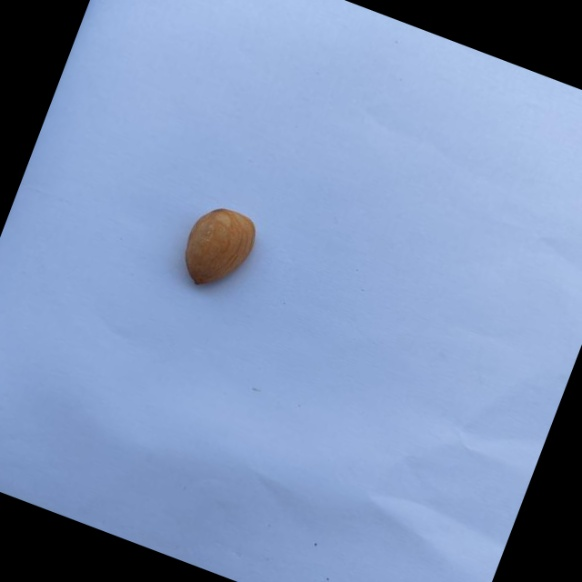grade2: (170, 196, 269, 303)
